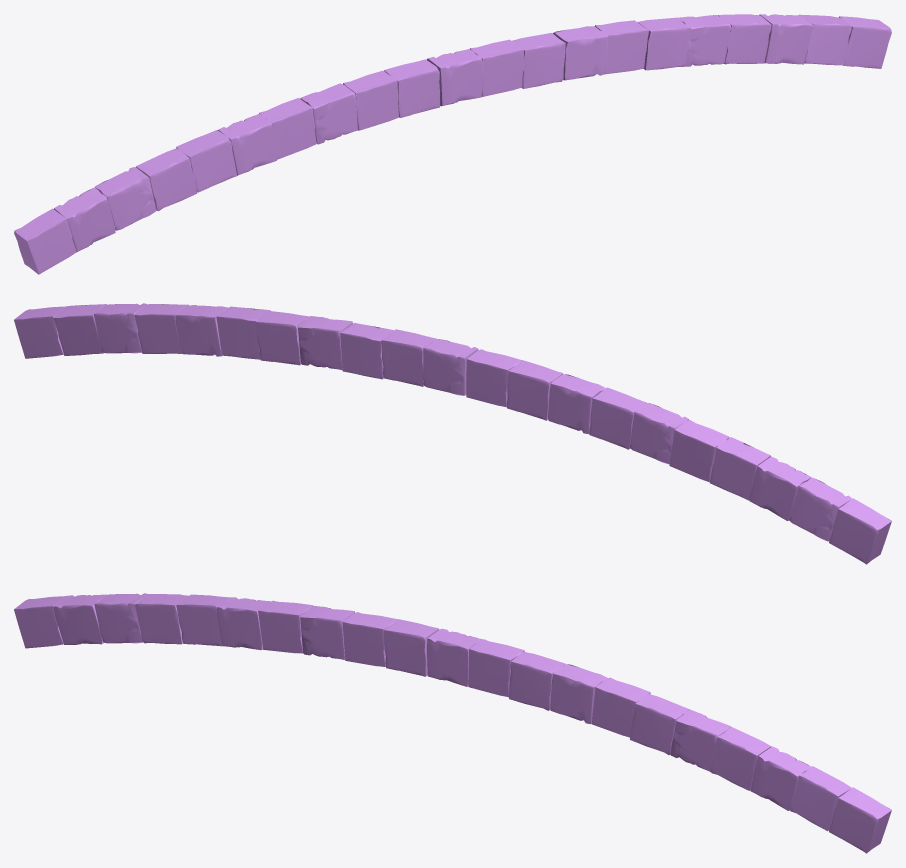
File: Bridge_Small_03_curved_side_01.fbx
3 views of the same model, one above another, from view 1: azimuth 30°, elevation 25°; view 2: azimuth 150°, elevation 25°; view 3: azimuth 330°, elevation 25° (orthographic).
Visible parts, largest first — view 1: Bridge_Small_03_curved_side_01_LOD0; view 2: Bridge_Small_03_curved_side_01_LOD0; view 3: Bridge_Small_03_curved_side_01_LOD0.
Boxes of the visible parts, x1=… form: Bridge_Small_03_curved_side_01_LOD0: x1=14, y1=14, x2=891, y2=274; Bridge_Small_03_curved_side_01_LOD0: x1=14, y1=303, x2=891, y2=564; Bridge_Small_03_curved_side_01_LOD0: x1=14, y1=593, x2=891, y2=853.
Size of what is drawn, in the model's own units: 1547 by 185 by 49.73.
